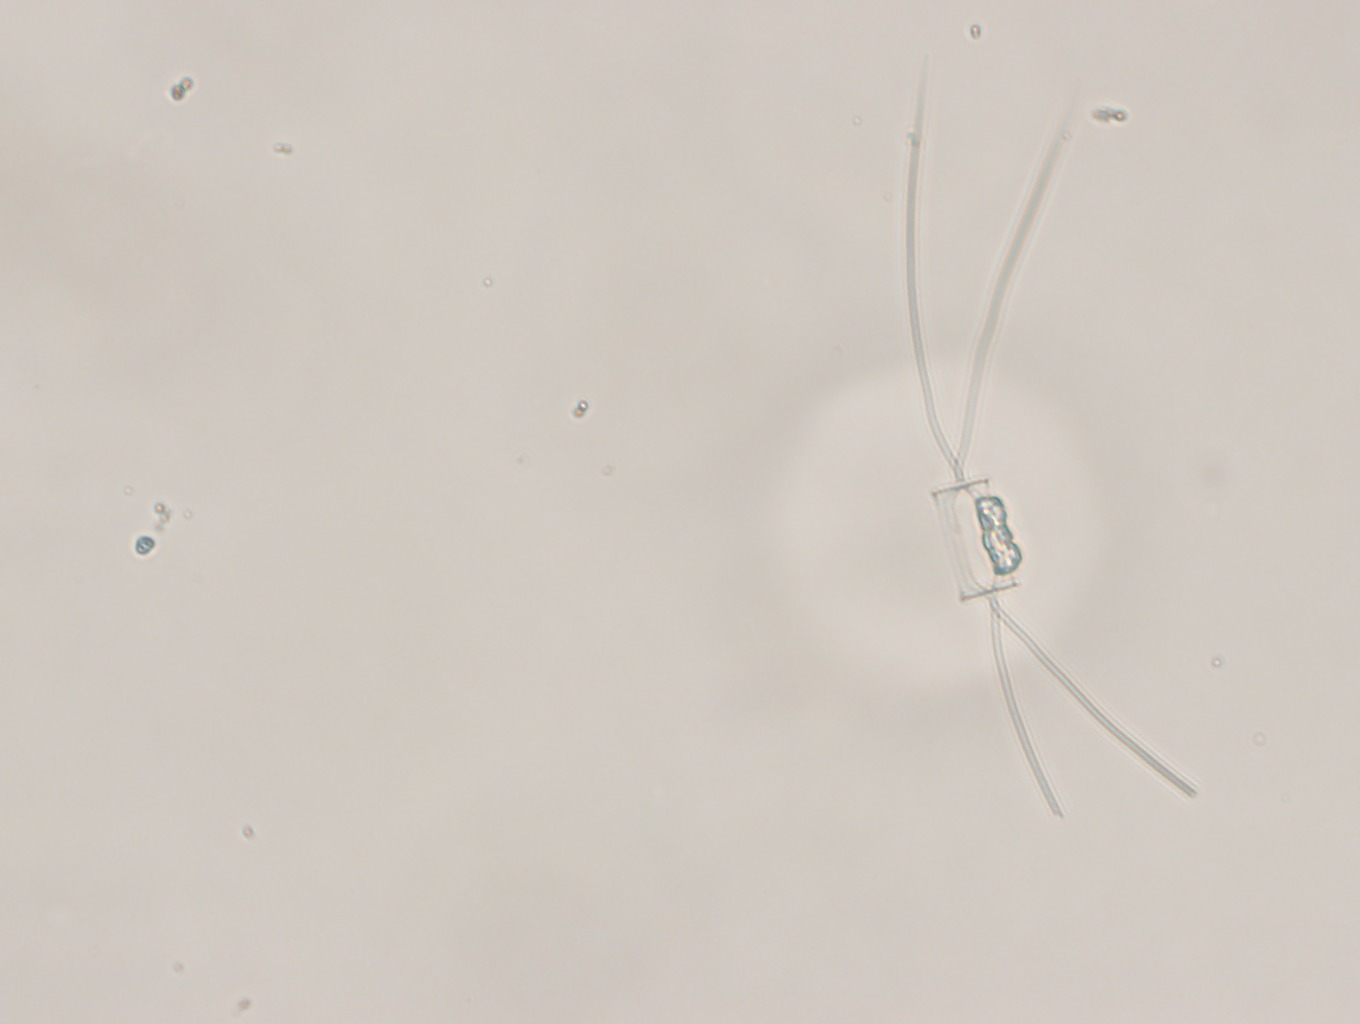chaetoceros: (870, 34, 1209, 830)
